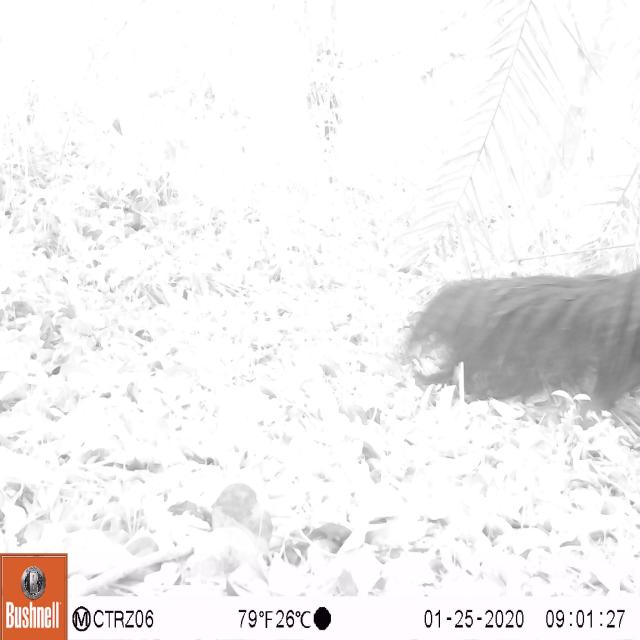Giant Anteater: (404, 258, 640, 434)
